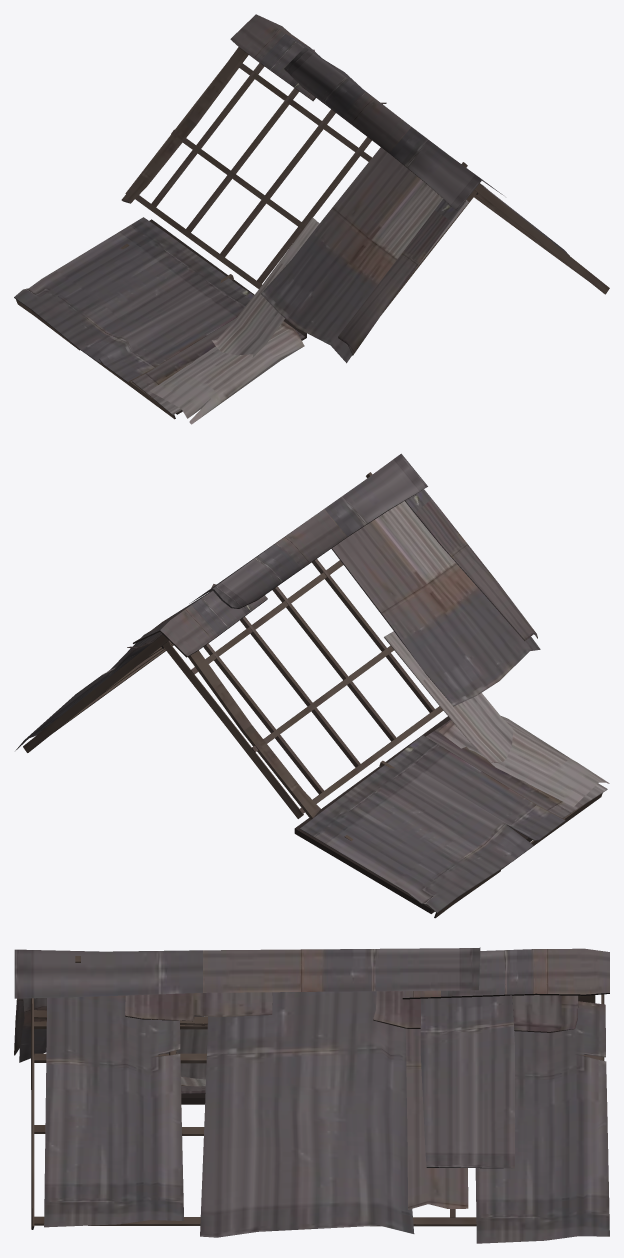
3 renders of one model, top to bottom at view 1: azimuth 30°, elevation 25°; view 2: azimuth 150°, elevation 25°; view 3: azimuth 270°, elevation 25°, orthographic. The views are drawn at different scales.
Visible parts, largest first — view 1: body0_model0_lod0_mesh0; view 2: body0_model0_lod0_mesh0; view 3: body0_model0_lod0_mesh0.
Part boxes in pixels (x1,y1,x2,y2): body0_model0_lod0_mesh0: [14, 14, 609, 424]; body0_model0_lod0_mesh0: [15, 453, 609, 918]; body0_model0_lod0_mesh0: [14, 947, 609, 1243].
Size of the model in its own units: 332 by 179 by 329.
1 material, 1 textured.
